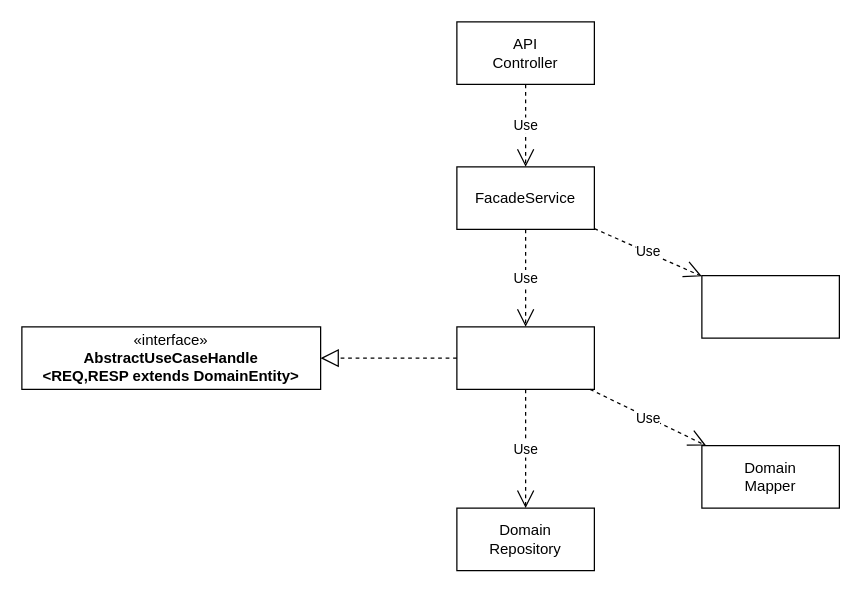
This 861x593 diagram has some shape labels left out. The shapes that lost their labels are listed below. From the top down, each one's box as (x1, y1, x2, y2) in pixels, then its label:
(701, 274, 839, 338): Command Mapper
(456, 326, 594, 389): UseCase Service
